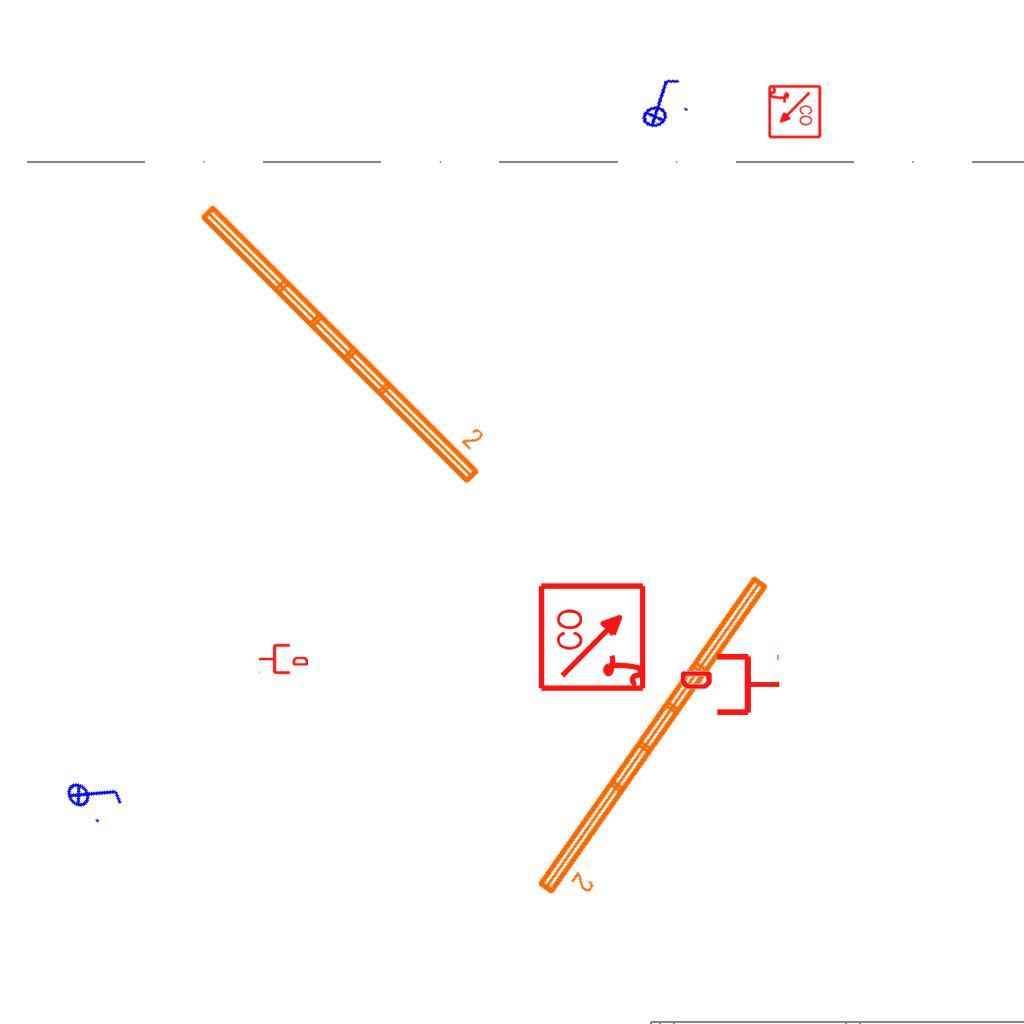Ambulanz_Pendelleuchte_LED: (191, 178, 506, 492), (529, 567, 798, 917)
Ausschalter_beleuchtet: (57, 757, 131, 831), (627, 71, 693, 133)
Datenanschluss_einfach: (681, 650, 781, 719), (258, 642, 308, 676)
ROA_Rauchmelder_optisch_mit_Signalgeber_(Sockelsirene): (537, 580, 650, 693), (766, 84, 822, 140)
